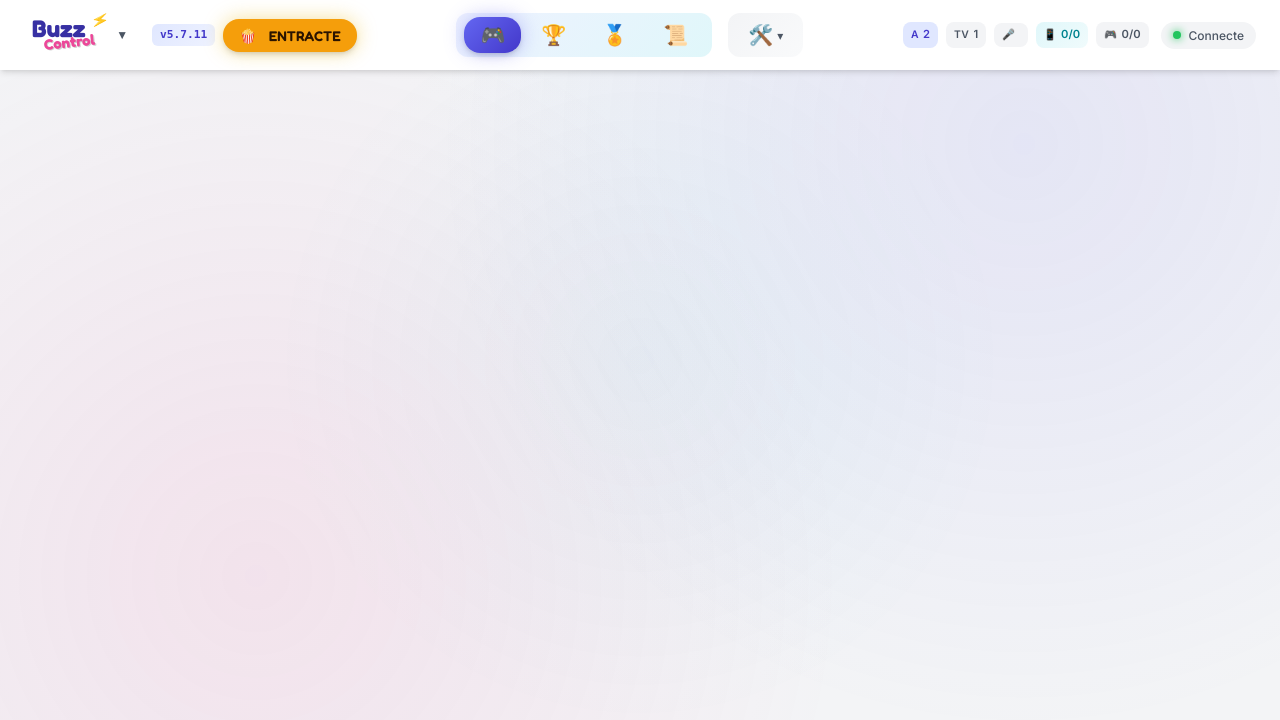
Test: #175 — entrée « Quitter », présence et nature (T1, AC1, AC6) › apparaît dans le menu déroulant, en DERNIÈRE position, après Logs
Click the button with aria-label "Menu de navigation" at [80, 35], box [24, 12, 136, 58]
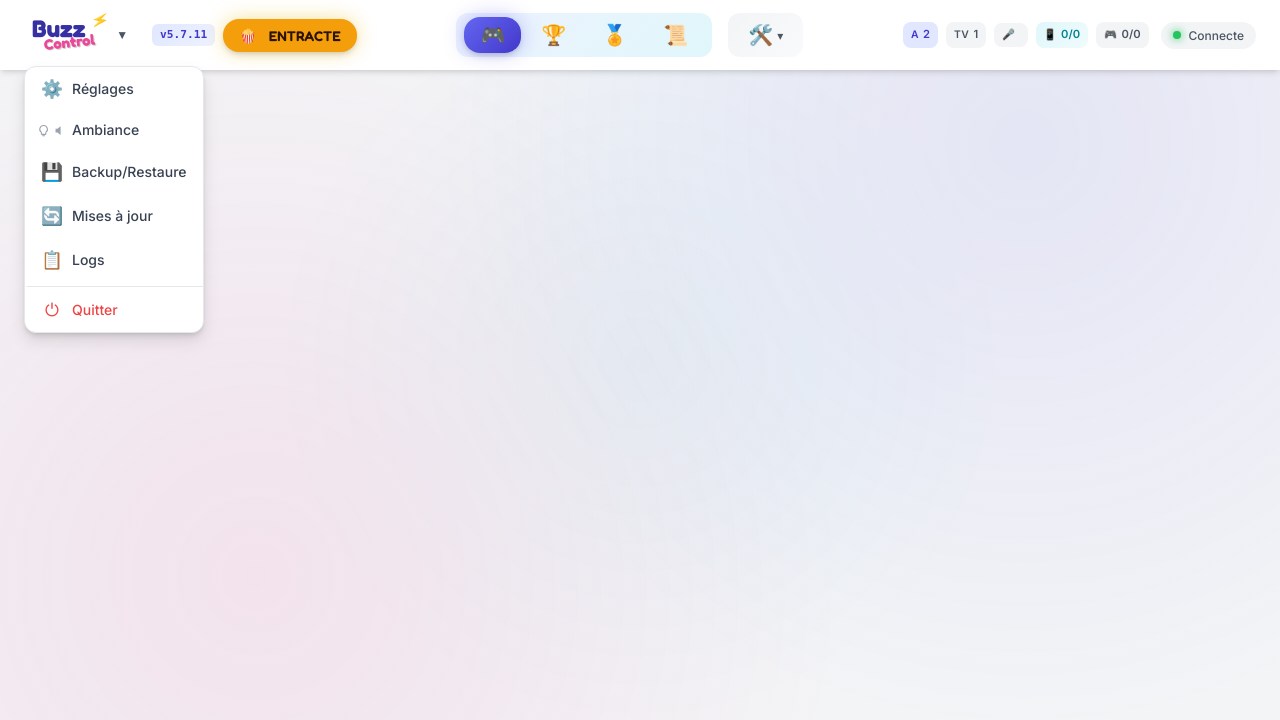
Check: the element with class "navbar-menu-dropdown" is shown, box [24, 66, 204, 333]
Check: the text with class "menu-label" reads "Quitter", box [72, 301, 118, 318]
